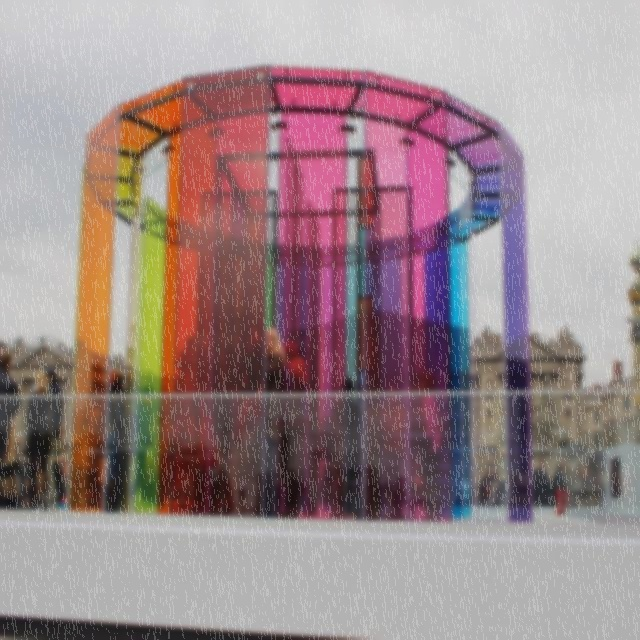pessoa: (161, 439, 423, 516), (71, 355, 105, 510), (279, 341, 307, 518), (24, 368, 54, 512), (10, 436, 70, 508), (453, 464, 529, 518), (100, 368, 127, 516), (418, 368, 443, 524), (334, 374, 358, 515), (43, 368, 66, 510), (130, 386, 156, 503), (0, 345, 23, 470), (161, 390, 214, 440), (246, 328, 286, 394), (534, 372, 564, 439), (528, 454, 554, 530), (50, 424, 68, 509), (142, 452, 158, 510), (551, 458, 566, 506)
